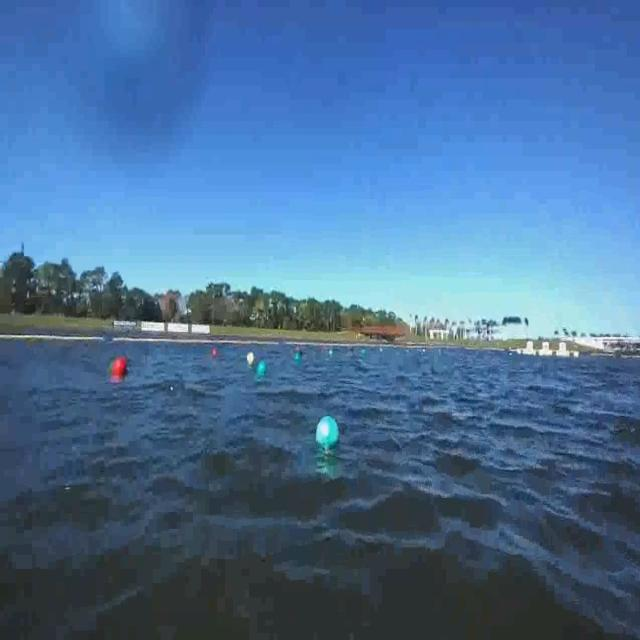green-buoy: (318, 415, 342, 450), (257, 359, 267, 376)
red-buoy: (115, 357, 132, 378)
yellow-buoy: (245, 351, 253, 366)
